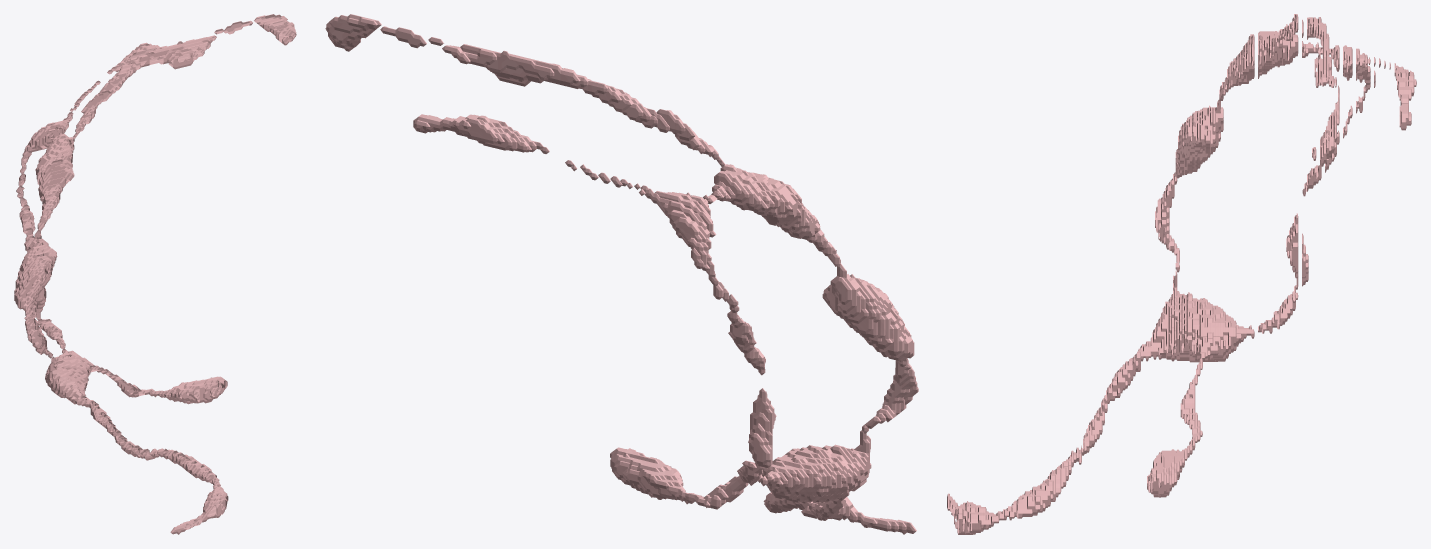
File: SVV_RIBL.gltf
3 renders of one model, left to right at view 1: azimuth 30°, elevation 25°; view 2: azimuth 150°, elevation 25°; view 3: azimuth 270°, elevation 25°, orthographic. The views are drawn at different scales.
Parts seen in each view (by area): view 1: RIBL; view 2: RIBL; view 3: RIBL.
Part boxes in pixels (x1,y1,x2,y2): RIBL: [14, 14, 296, 534]; RIBL: [325, 14, 918, 534]; RIBL: [947, 14, 1416, 534].
Size of the model in its own units: 83990 by 91695 by 70059.
